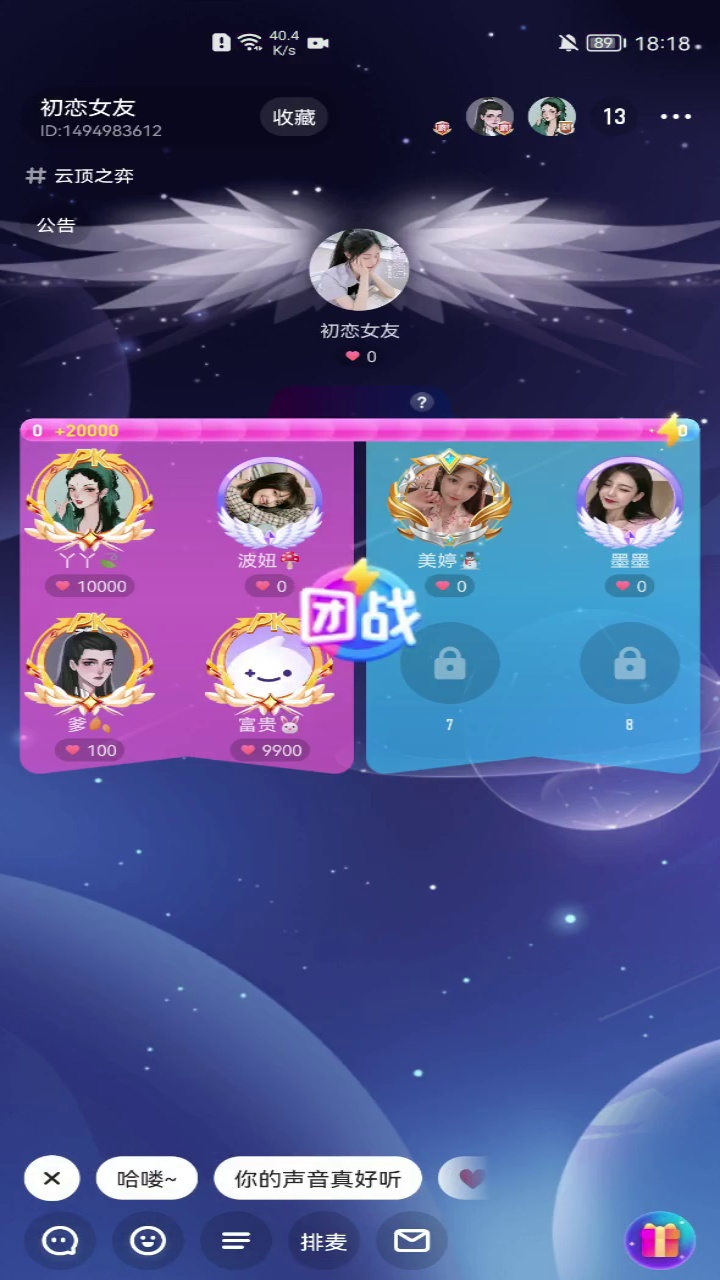avatar: (199, 610, 345, 716)
